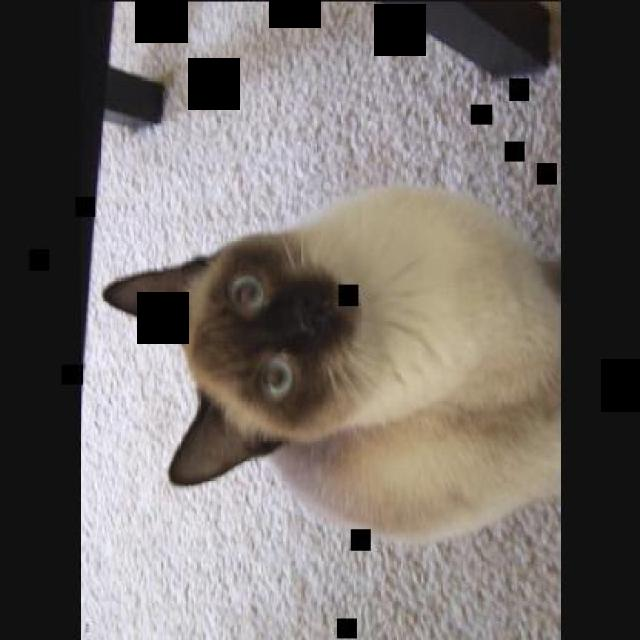unauthorized: (102, 185, 560, 544)
